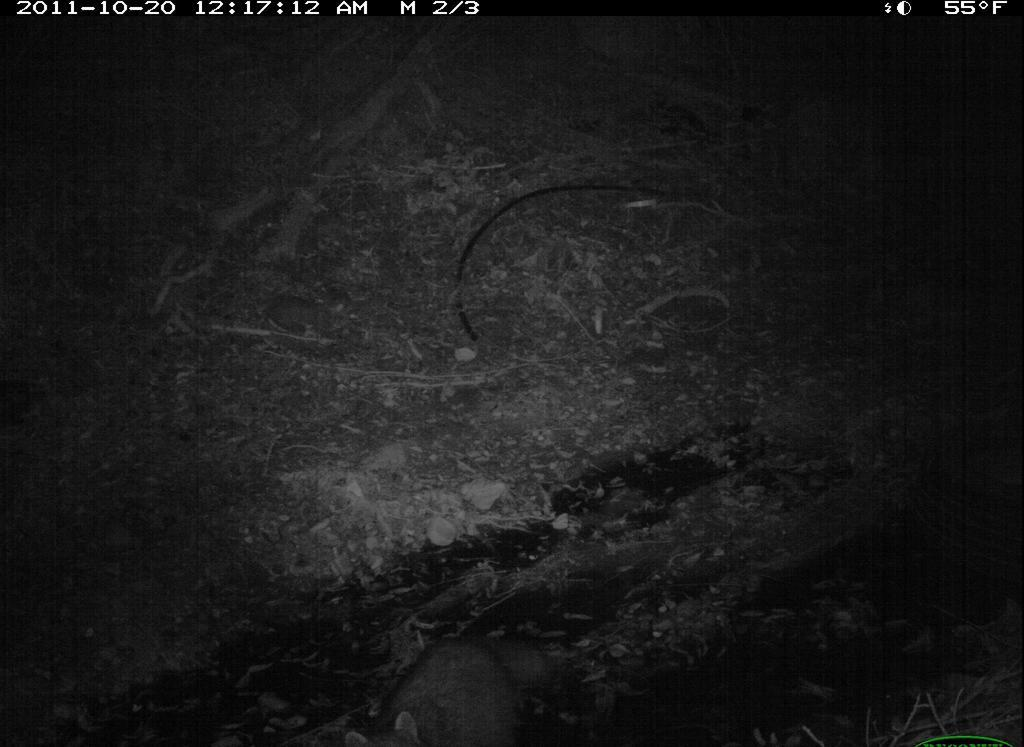raccoon: (337, 617, 568, 747)
